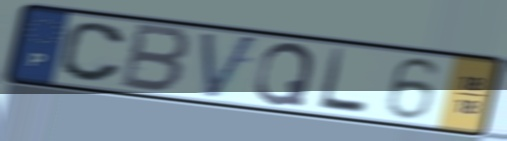6: (382, 55, 445, 123)
B: (116, 21, 196, 96)
C: (56, 20, 129, 85)
L: (315, 45, 370, 116)
Q: (252, 40, 318, 108)
V: (198, 29, 262, 103)
